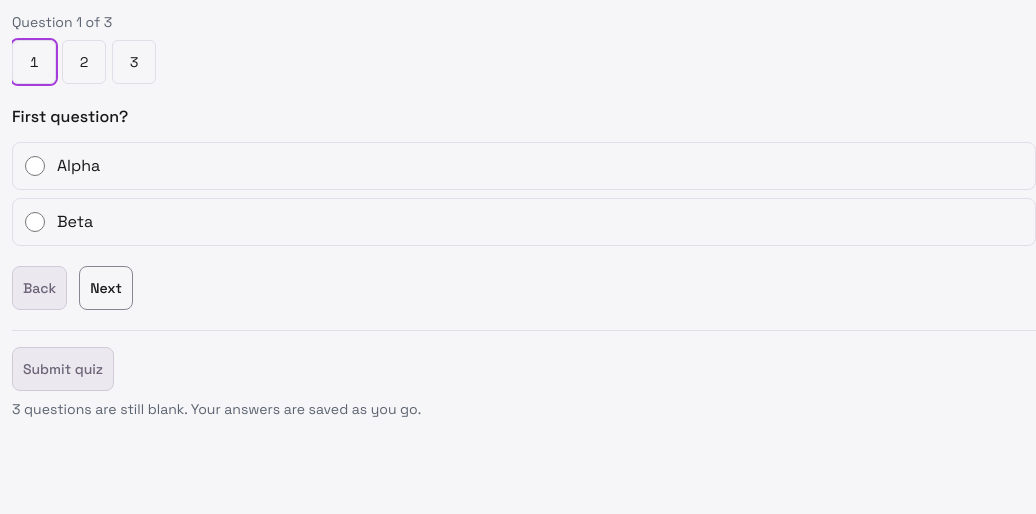
QuizStep › uses radio buttons for single choice and checkboxes for pick-all-that-apply
Expected: the text "First question?" is shown, [12,106,128,127]
Click the button "Next" at (106, 288), box [79,266,133,310]
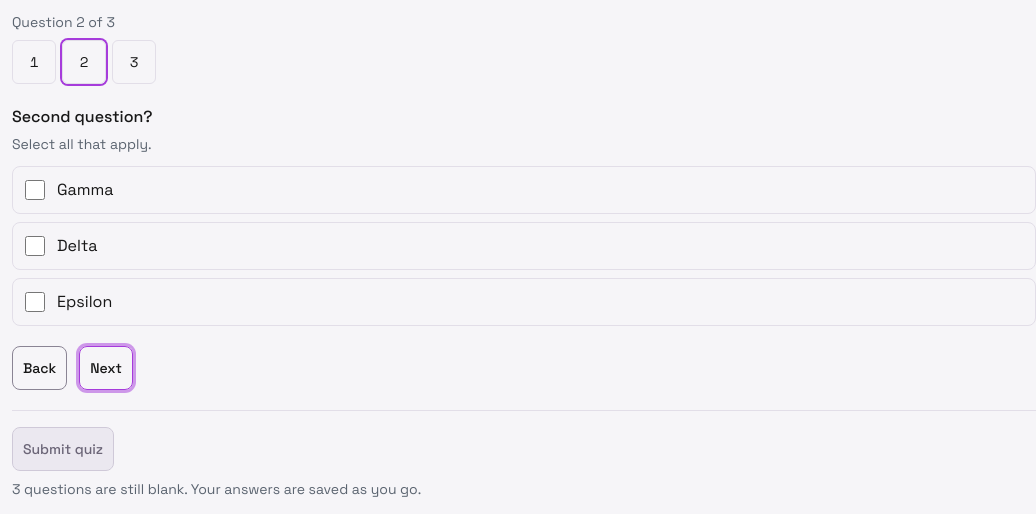
Now the text "Second question?" is shown, box [12,106,153,127]
Now the text "Select all that apply." is shown, box [12,135,152,153]
